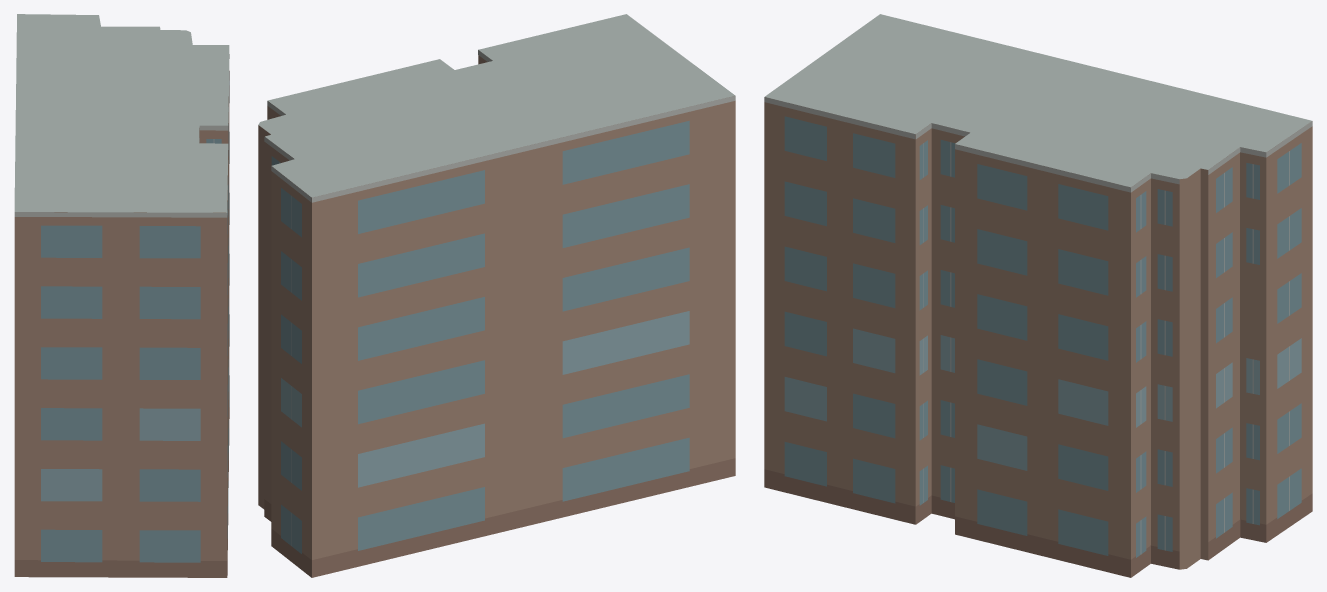
Rendered from survey-upis-32529985.glb.
The picture shows the model from 3 angles, left to right: view 1: azimuth 30°, elevation 25°; view 2: azimuth 150°, elevation 25°; view 3: azimuth 270°, elevation 25°; orthographic projection. The views are drawn at different scales.
Visible parts, largest first — view 1: survey-upis-32529985.tmp; view 2: survey-upis-32529985.tmp; view 3: survey-upis-32529985.tmp.
Boxes of the visible parts, x1,y1,x2,y2 form: survey-upis-32529985.tmp: (14, 14, 229, 577); survey-upis-32529985.tmp: (258, 14, 735, 577); survey-upis-32529985.tmp: (764, 14, 1312, 577).
Size of the model in its own units: 17.24 by 18.1 by 23.04.
